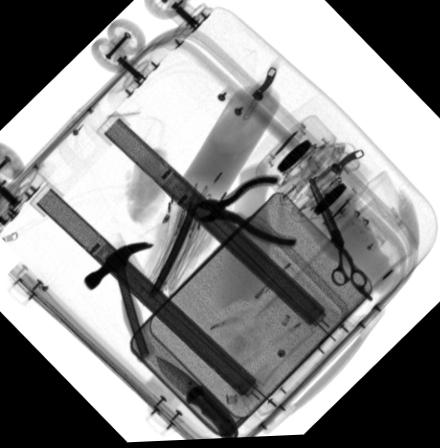Hammer: (82, 239, 156, 363)
Knife: (153, 355, 238, 440)
Pliers: (191, 176, 298, 252)
Scissors: (307, 182, 372, 304)
